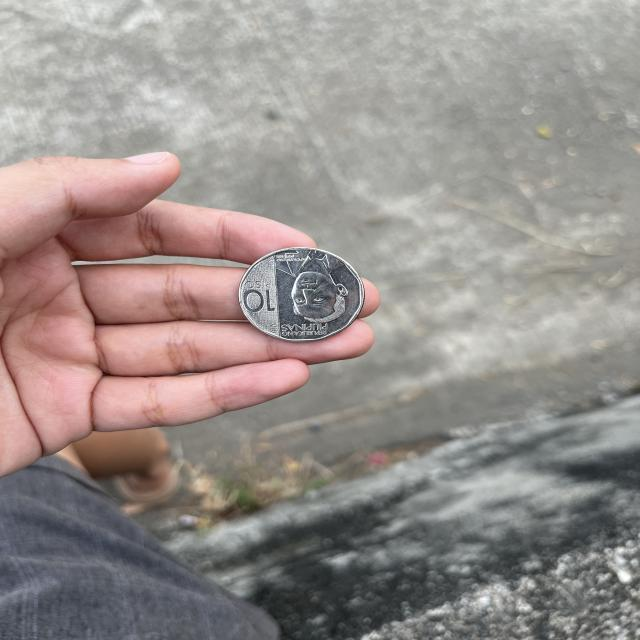10_New_Front: (239, 275, 276, 313)
